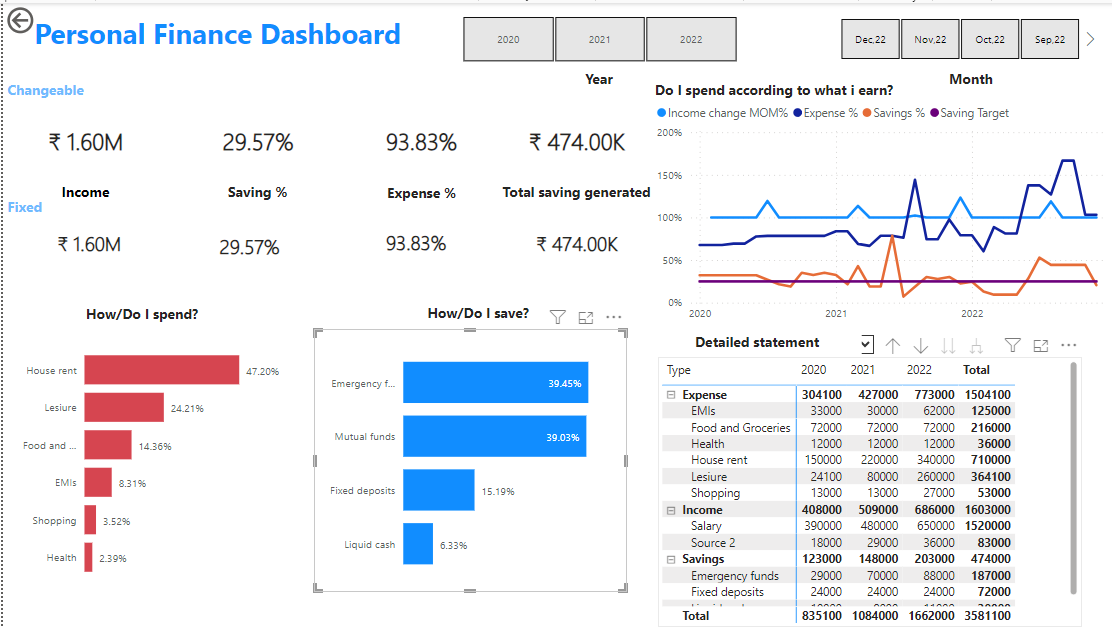

The page's visual inventory and layout, read from the dashboard file:
{"tool":"powerbi","page":{"name":"Page 1","canvas":[1280,720],"ordinal":0},"visuals":[{"type":"card","fields":{"Values":["Measure.Total Savings"]},"box":[516.9,219.2,173.1,117.7],"z":0},{"type":"card","fields":{"Values":["Measure.Savings %"]},"box":[162.7,101.5,181.2,117.7],"z":1000},{"type":"card","fields":{"Values":["Measure.Expense %"]},"box":[343.8,102.7,173.1,117.7],"z":2000},{"type":"card","fields":{"Values":["Measure.Total Savings"]},"box":[516.9,101.5,173.1,117.7],"z":3000},{"type":"card","fields":{"Values":["Measure.Total Income"]},"box":[0,101.5,162.7,117.7],"z":4000},{"type":"card","fields":{"Values":["Measure.Savings %"]},"box":[160.4,219.2,183.5,117.7],"z":5000},{"type":"card","fields":{"Values":["Measure.Expense %"]},"box":[343.8,219.2,173.1,117.7],"z":6000},{"type":"card","fields":{"Values":["Measure.Total Income"]},"box":[0,225,162.7,117.7],"z":7000},{"type":"textbox","box":[521.5,195,162.7,49.6],"z":8000},{"type":"textbox","box":[364.6,201.9,130.4,33.5],"z":9000},{"type":"textbox","box":[188.1,201.9,130.4,33.5],"z":10000},{"type":"textbox","box":[16.2,201.9,130.4,33.5],"z":11000},{"type":"textbox","box":[0,6.9,495,72.7],"z":12000},{"type":"slicer","fields":{"Values":["findata.Date"]},"box":[941.5,11.5,324.2,60],"z":13000},{"type":"slicer","fields":{"Values":["findata.Year"]},"box":[505.4,11.5,364.6,64.6],"z":14000},{"type":"textbox","box":[596.5,71.5,175.4,33.5],"z":15000},{"type":"textbox","box":[1035,71.5,163.8,33.5],"z":16000},{"type":"clusteredBarChart","fields":{"Category":["findata.Component"],"Y":["Measure.Total expense"]},"box":[0,370.4,343.8,349.6],"z":17000},{"type":"clusteredBarChart","fields":{"Category":["findata.Component"],"Y":["Measure.Total Savings"]},"box":[341.5,370.4,346.2,349.6],"z":18000},{"type":"textbox","box":[343.8,336.9,191.5,33.5],"z":19000},{"type":"textbox","box":[0,336.9,242.3,33.5],"z":20000},{"type":"textbox","box":[0,219.2,65.8,33.5],"z":21000},{"type":"textbox","box":[0,84.2,130.4,33.5],"z":22000},{"type":"lineChart","fields":{"Y":["Measure.Income change MOM%","Measure.Expense %","Measure.Savings %","Measure.Saving Target"],"Category":["findata.Date"]},"box":[690,117.7,589.6,276.9],"z":23000},{"type":"pivotTable","fields":{"Values":["Sum(findata.Value)"],"Columns":["findata.Year","findata.Date"],"Rows":["findata.Type","findata.Component"]},"box":[684.2,408.5,595.4,311.5],"z":24000},{"type":"actionButton","box":[0,0,100,40],"z":25000},{"type":"textbox","box":[702.7,78.5,309.2,33.5],"z":26000},{"type":"textbox","box":[687.7,379.6,242.3,33.5],"z":27000}]}

Visuals, with their boxes on the page's 1280x720 design canvas (x1, y1, x2, y2). These are canvas units, not pixel positions in the 1112x627 screenshot, which may show the page scaled, cropped or inside an application window:
card - Measure.Total Savings: Rect(517, 219, 690, 337)
card - Measure.Savings %: Rect(163, 102, 344, 219)
card - Measure.Expense %: Rect(344, 103, 517, 220)
card - Measure.Total Savings: Rect(517, 102, 690, 219)
card - Measure.Total Income: Rect(0, 102, 163, 219)
card - Measure.Savings %: Rect(160, 219, 344, 337)
card - Measure.Expense %: Rect(344, 219, 517, 337)
card - Measure.Total Income: Rect(0, 225, 163, 343)
textbox: Rect(522, 195, 684, 245)
textbox: Rect(365, 202, 495, 235)
textbox: Rect(188, 202, 318, 235)
textbox: Rect(16, 202, 147, 235)
textbox: Rect(0, 7, 495, 80)
slicer - findata.Date: Rect(942, 12, 1266, 72)
slicer - findata.Year: Rect(505, 12, 870, 76)
textbox: Rect(596, 72, 772, 105)
textbox: Rect(1035, 72, 1199, 105)
clusteredBarChart - findata.Component x Measure.Total expense: Rect(0, 370, 344, 720)
clusteredBarChart - findata.Component x Measure.Total Savings: Rect(342, 370, 688, 720)
textbox: Rect(344, 337, 535, 370)
textbox: Rect(0, 337, 242, 370)
textbox: Rect(0, 219, 66, 253)
textbox: Rect(0, 84, 130, 118)
lineChart - Measure.Income change MOM% x Measure.Expense %: Rect(690, 118, 1280, 395)
pivotTable - Sum(findata.Value) x findata.Year: Rect(684, 408, 1280, 720)
actionButton: Rect(0, 0, 100, 40)
textbox: Rect(703, 78, 1012, 112)
textbox: Rect(688, 380, 930, 413)
